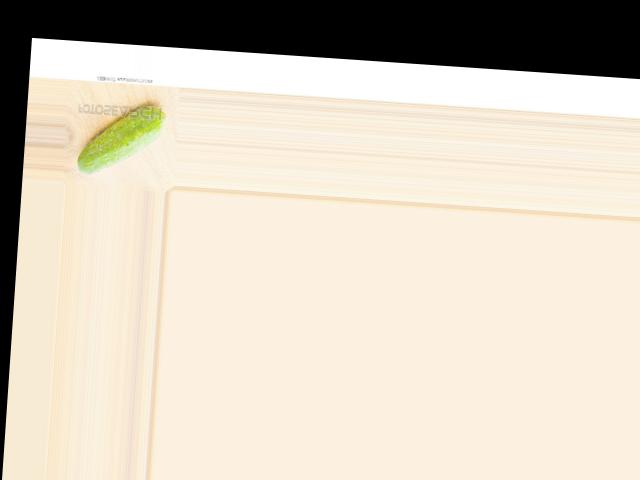cucumber: (76, 100, 168, 179)
